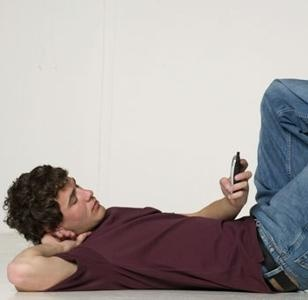person without safety: (3, 164, 263, 289)
